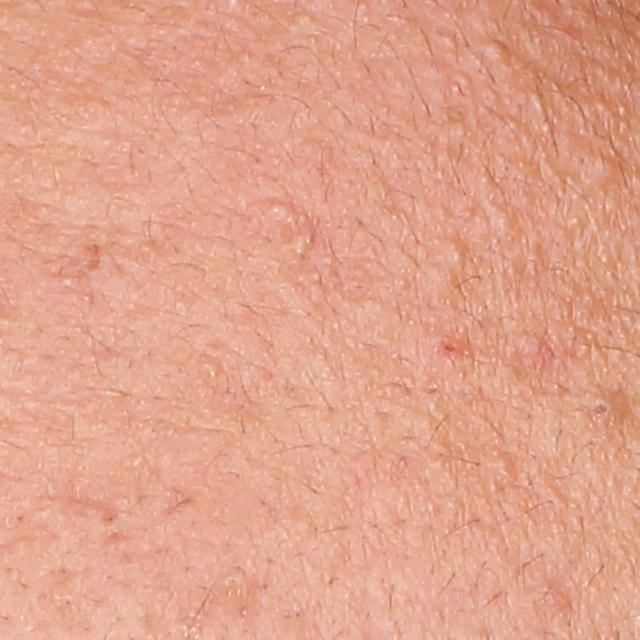comedo: (585, 150, 626, 186), (483, 452, 513, 478), (586, 397, 612, 422), (484, 40, 506, 66), (445, 241, 464, 267)
